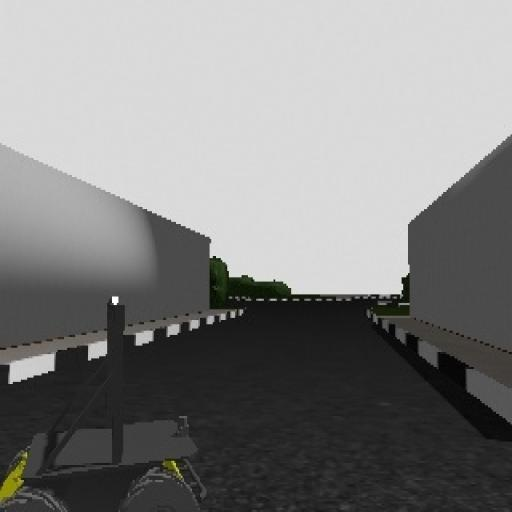huskya200: (1, 271, 213, 512)
